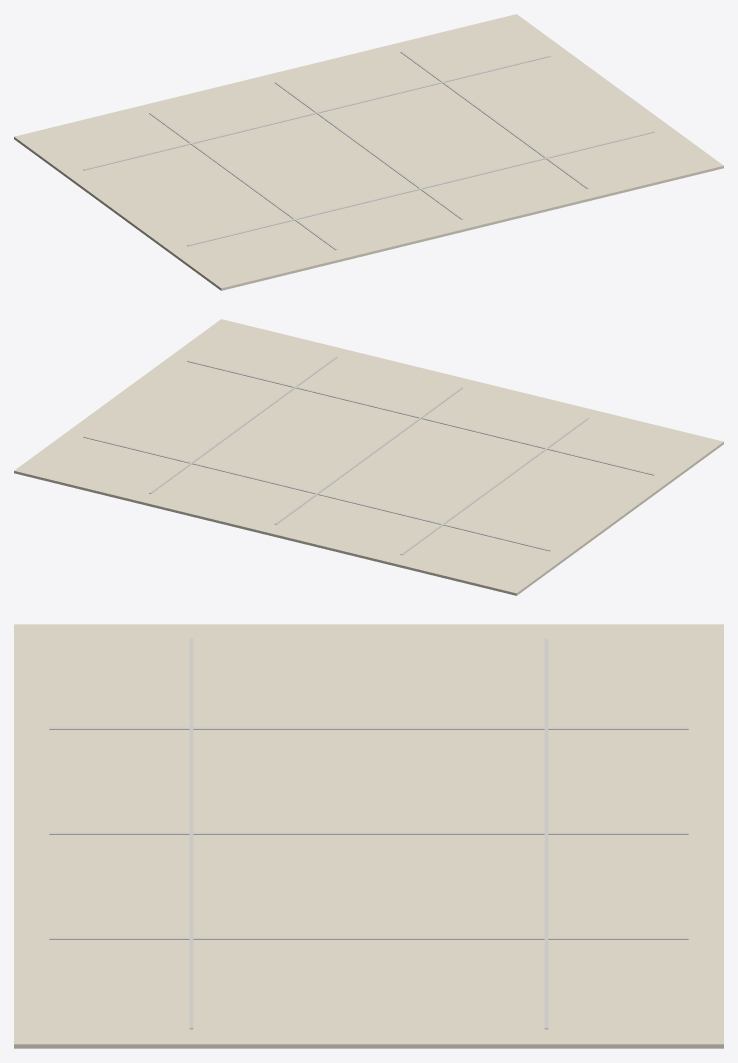
The model's file is prop-map-sheet-blank.fbx.
The picture shows the model from 3 angles, top to bottom: view 1: azimuth 30°, elevation 25°; view 2: azimuth 150°, elevation 25°; view 3: azimuth 270°, elevation 25°; orthographic projection. The views are drawn at different scales.
Parts seen in each view (by area): view 1: prop-map-sheet-blank; view 2: prop-map-sheet-blank; view 3: prop-map-sheet-blank.
Boxes of the visible parts, box(x1,y1,x2,y2) form: prop-map-sheet-blank: box(14, 14, 723, 290); prop-map-sheet-blank: box(14, 319, 723, 595); prop-map-sheet-blank: box(14, 624, 723, 1048).
Bounding box in the file's own units: 42 × 0.25 × 30.
